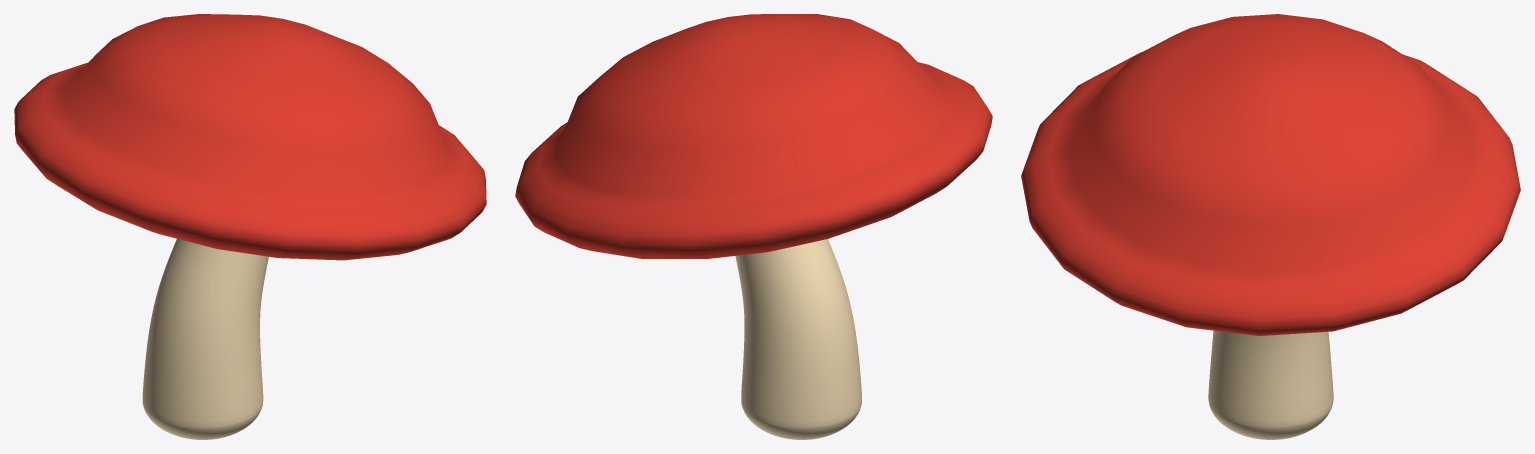
Rendered from mushroom.fbx.
3 renders of one model, left to right at view 1: azimuth 30°, elevation 25°; view 2: azimuth 150°, elevation 25°; view 3: azimuth 270°, elevation 25°, orthographic. The views are drawn at different scales.
Parts seen in each view (by area): view 1: polySurface133, polySurface134; view 2: polySurface133, polySurface134; view 3: polySurface133, polySurface134.
Boxes of the visible parts, box(x1,y1,x2,y2) form: polySurface133: box(14, 14, 486, 260); polySurface134: box(142, 239, 268, 439); polySurface133: box(515, 14, 992, 258); polySurface134: box(735, 239, 861, 439); polySurface133: box(1021, 14, 1520, 335); polySurface134: box(1208, 330, 1333, 439).
Bounding box in the file's own units: 1.34 × 1.2 × 1.36.
